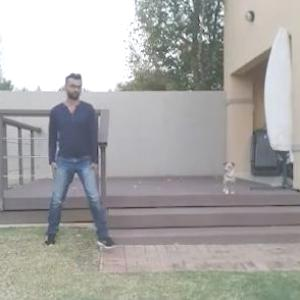follow: (44, 72, 96, 238)
